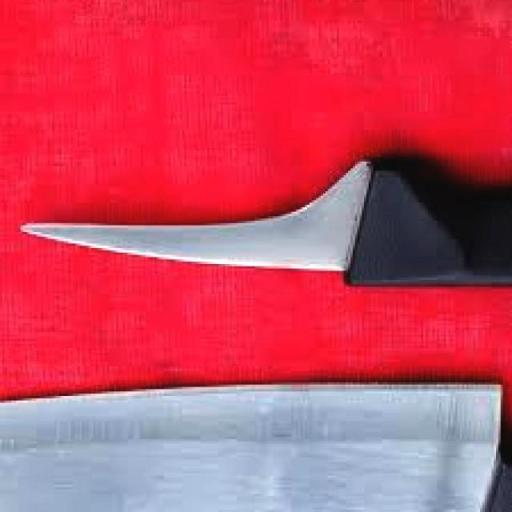knife: (0, 131, 512, 320)
